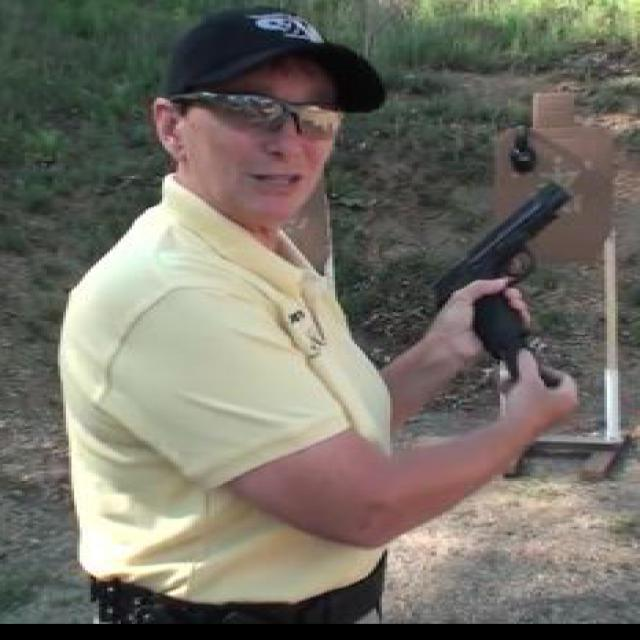Gun: (436, 176, 580, 359)
